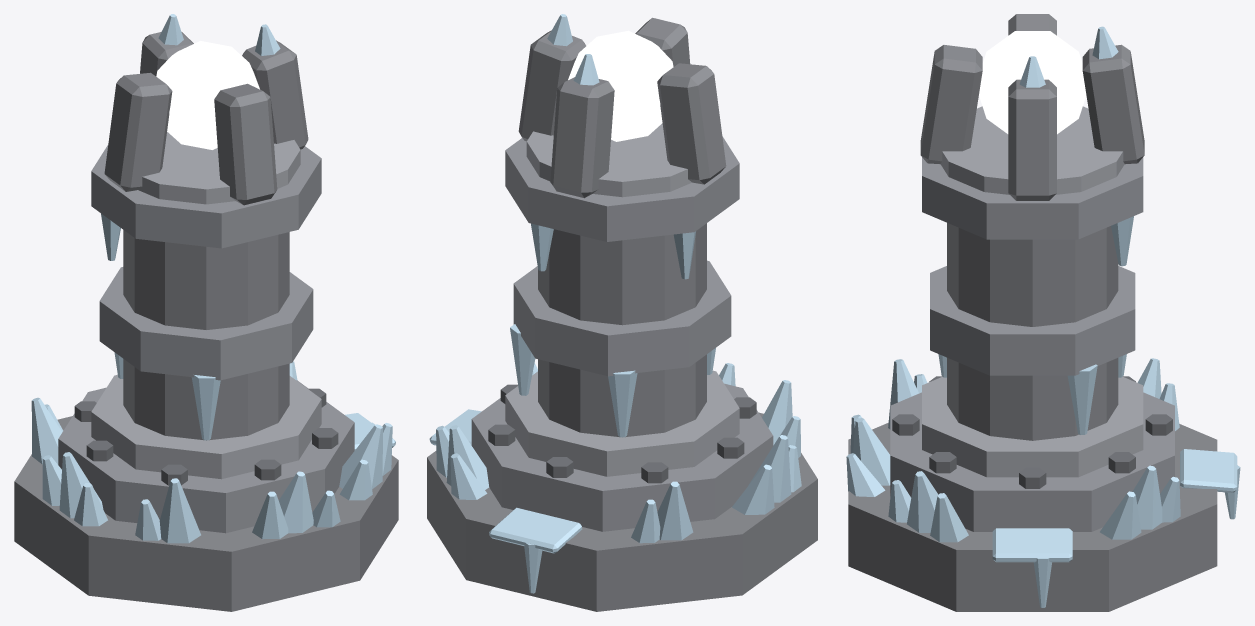
Rendered from FreezeTower.fbx.
The picture shows the model from 3 angles, left to right: view 1: azimuth 30°, elevation 25°; view 2: azimuth 150°, elevation 25°; view 3: azimuth 270°, elevation 25°; orthographic projection. The views are drawn at different scales.
Parts seen in each view (by area): view 1: FreezeTower.BaseTier1, FreezeTower.Column, FreezeTower.Prongs, FreezeTower.IceCrystals, FreezeTower.BaseTier2, FreezeTower.Band, FreezeTower.Collar, FreezeTower.BaseLip, FreezeTower.Orb, FreezeTower.CollarTop, FreezeTower.BaseBolts, FreezeTower.BandIcicles (+3 smaller); view 2: FreezeTower.BaseTier1, FreezeTower.Column, FreezeTower.Prongs, FreezeTower.BaseTier2, FreezeTower.Band, FreezeTower.Collar, FreezeTower.BaseLip, FreezeTower.IceCrystals, FreezeTower.Orb, FreezeTower.CollarTop, FreezeTower.IceSheets, FreezeTower.BaseBolts (+3 smaller); view 3: FreezeTower.BaseTier1, FreezeTower.Column, FreezeTower.Prongs, FreezeTower.BaseTier2, FreezeTower.Band, FreezeTower.IceCrystals, FreezeTower.BaseLip, FreezeTower.Collar, FreezeTower.CollarTop, FreezeTower.Orb, FreezeTower.IceSheets, FreezeTower.BaseBolts (+3 smaller).
Boxes of the visible parts, x1,y1,x2,y2 form: FreezeTower.BaseTier1: (14,416,398,611); FreezeTower.Column: (123,230,289,440); FreezeTower.Prongs: (104,32,308,205); FreezeTower.IceCrystals: (31,361,392,543); FreezeTower.BaseTier2: (58,380,354,533); FreezeTower.Band: (99,267,313,380); FreezeTower.Collar: (91,145,321,248); FreezeTower.BaseLip: (91,375,321,479); FreezeTower.Orb: (156,41,259,149); FreezeTower.CollarTop: (138,132,300,204); FreezeTower.BaseBolts: (74,388,338,485); FreezeTower.BandIcicles: (114,352,220,440); FreezeTower.BaseTier1: (427,412,817,611); FreezeTower.Column: (538,223,706,437); FreezeTower.Prongs: (518,17,726,198); FreezeTower.BaseTier2: (471,383,773,531); FreezeTower.Band: (513,260,731,376); FreezeTower.Collar: (505,136,739,241); FreezeTower.BaseLip: (505,370,739,476); FreezeTower.IceCrystals: (436,363,801,543); FreezeTower.Orb: (568,30,673,141); FreezeTower.CollarTop: (526,123,691,197); FreezeTower.IceSheets: (429,409,582,593); FreezeTower.BaseBolts: (488,384,756,483); FreezeTower.BaseTier1: (848,422,1217,611); FreezeTower.Column: (947,223,1118,440); FreezeTower.Prongs: (920,14,1144,200); FreezeTower.BaseTier2: (890,392,1174,531); FreezeTower.Band: (930,266,1135,375); FreezeTower.IceCrystals: (846,358,1180,542); FreezeTower.BaseLip: (922,376,1143,477); FreezeTower.Collar: (922,157,1143,239); FreezeTower.CollarTop: (940,106,1124,194); FreezeTower.Orb: (979,31,1086,134); FreezeTower.IceSheets: (992,449,1240,607); FreezeTower.BaseBolts: (892,376,1172,488).
Size of the model in its own units: 6.85 by 9.79 by 6.91.
